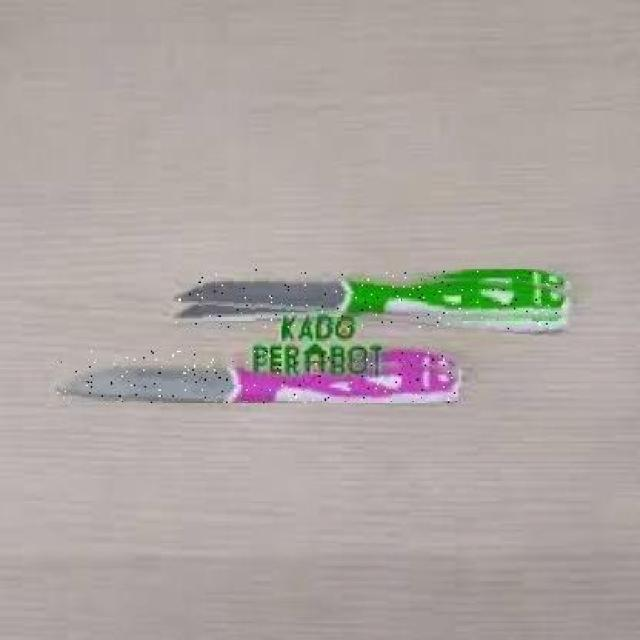knife: (175, 269, 572, 329), (57, 351, 458, 403)
